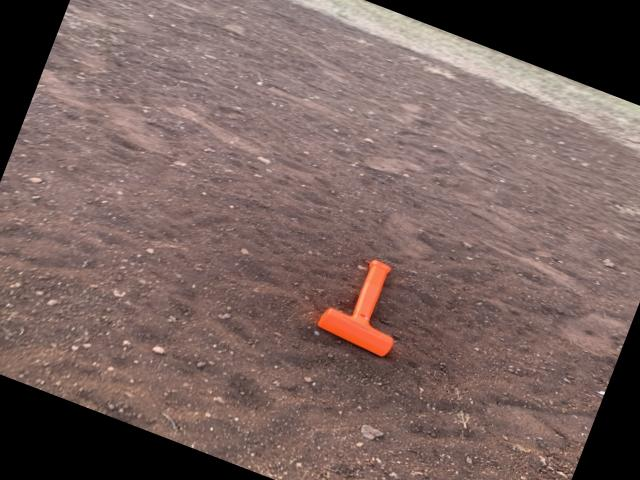hammer: (314, 248, 420, 360)
